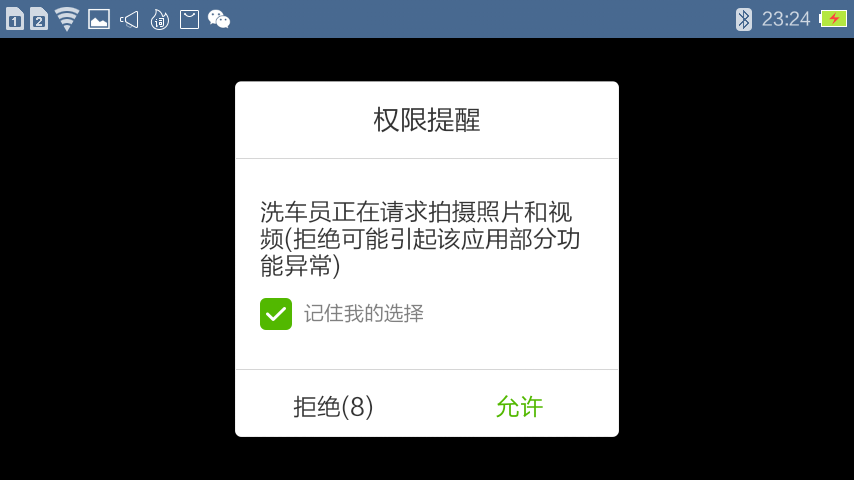alert: (231, 77, 622, 443)
button: (239, 362, 616, 438)
checkbox: (255, 294, 429, 334)
textview: (247, 190, 582, 283), (368, 98, 485, 140)
